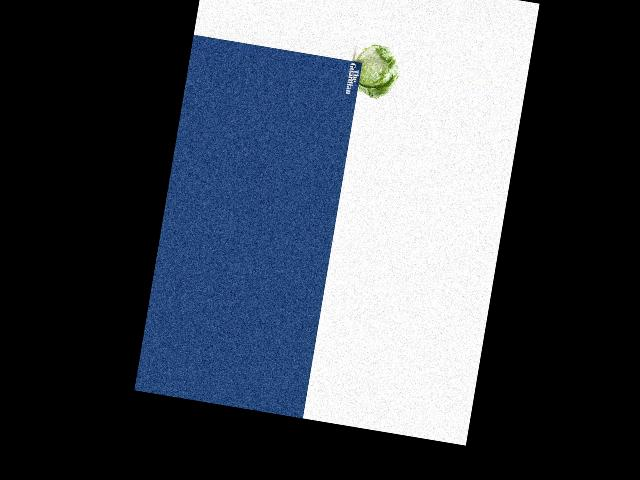lettuce: (350, 42, 405, 100)
